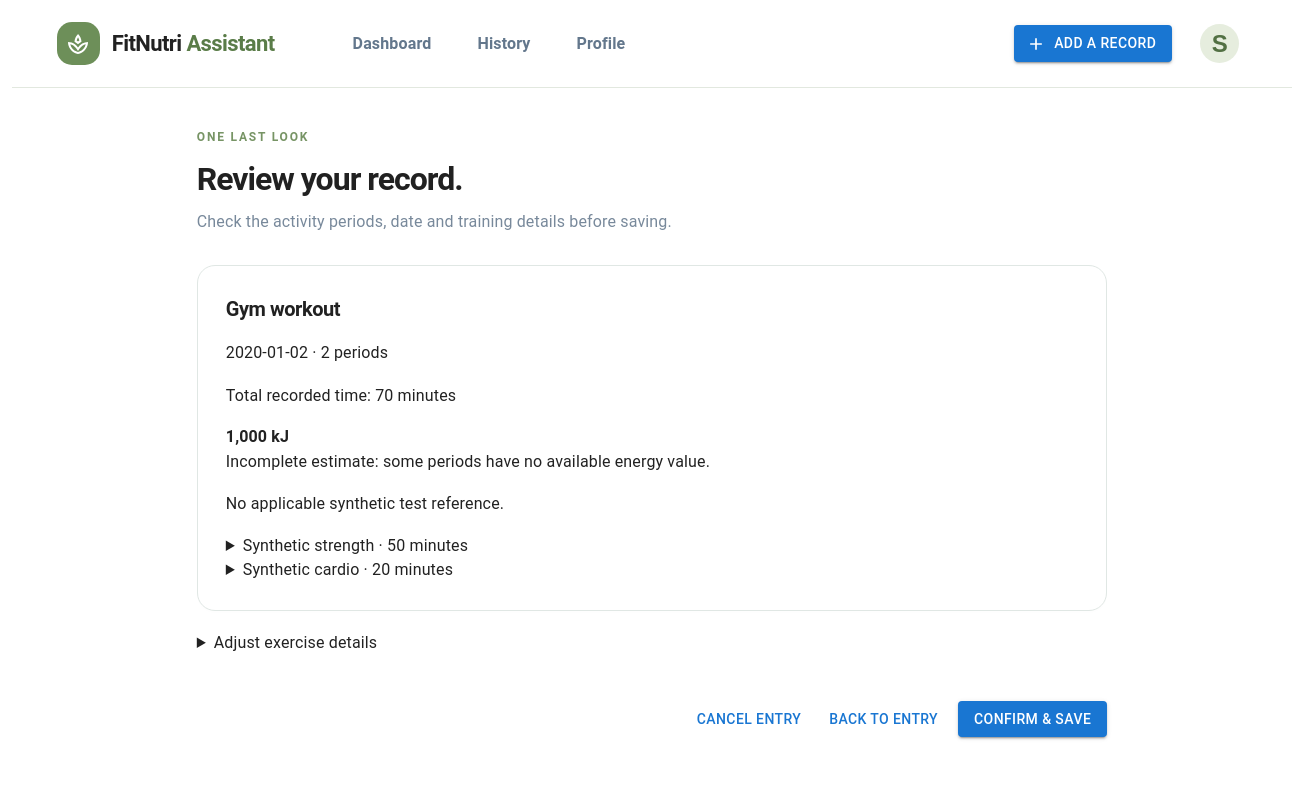
Scenario: requires a new explicit confirmation after a known calculation conflict and keeps original root identities
The image size is (1292, 800).
Expected: the heading "Review your record." is shown, [197,160,462,198]
Click the button "Confirm & save" at (1033,719), box [958,701,1107,737]
(page scrolled)
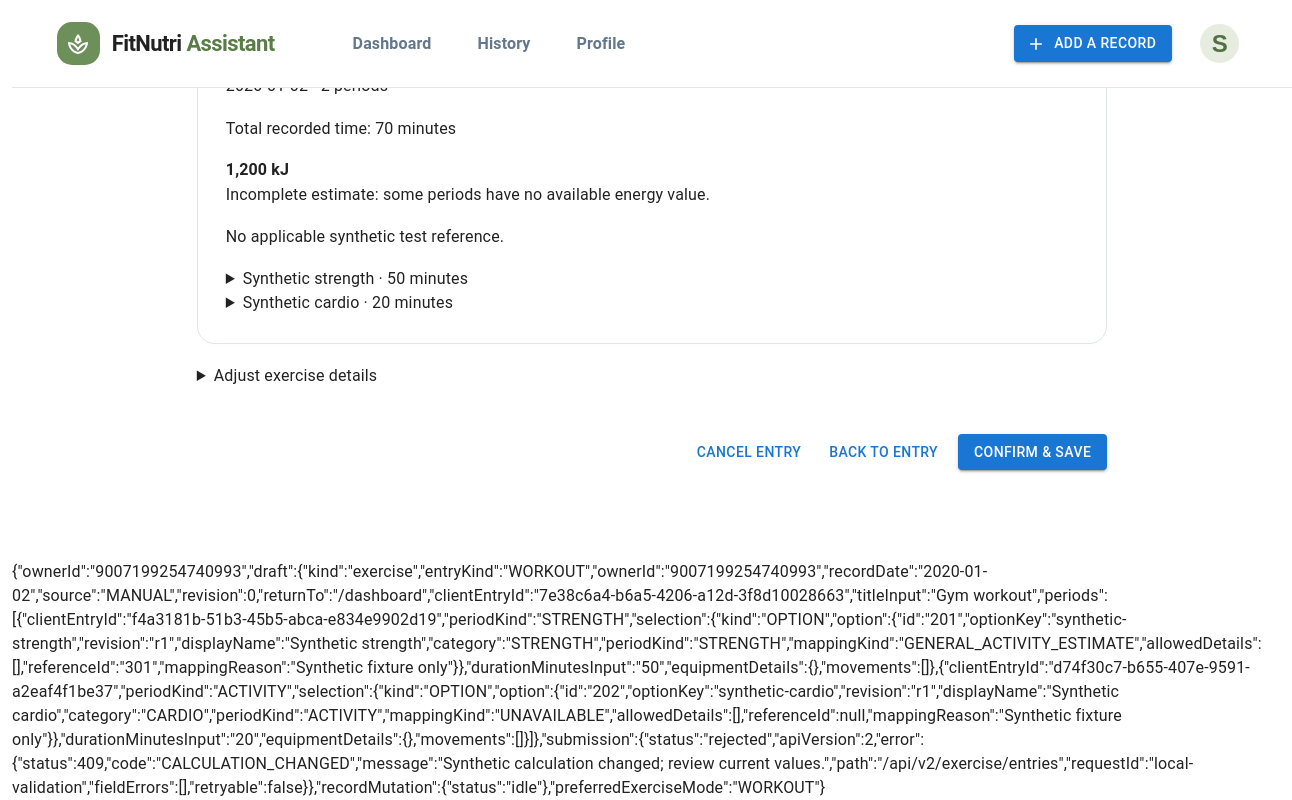
Expected: the text "1,200 kJ" is shown, [226,160,289,179]
Click the button "Confirm & save" at (1033,452), box [958,434,1107,470]
(page scrolled)
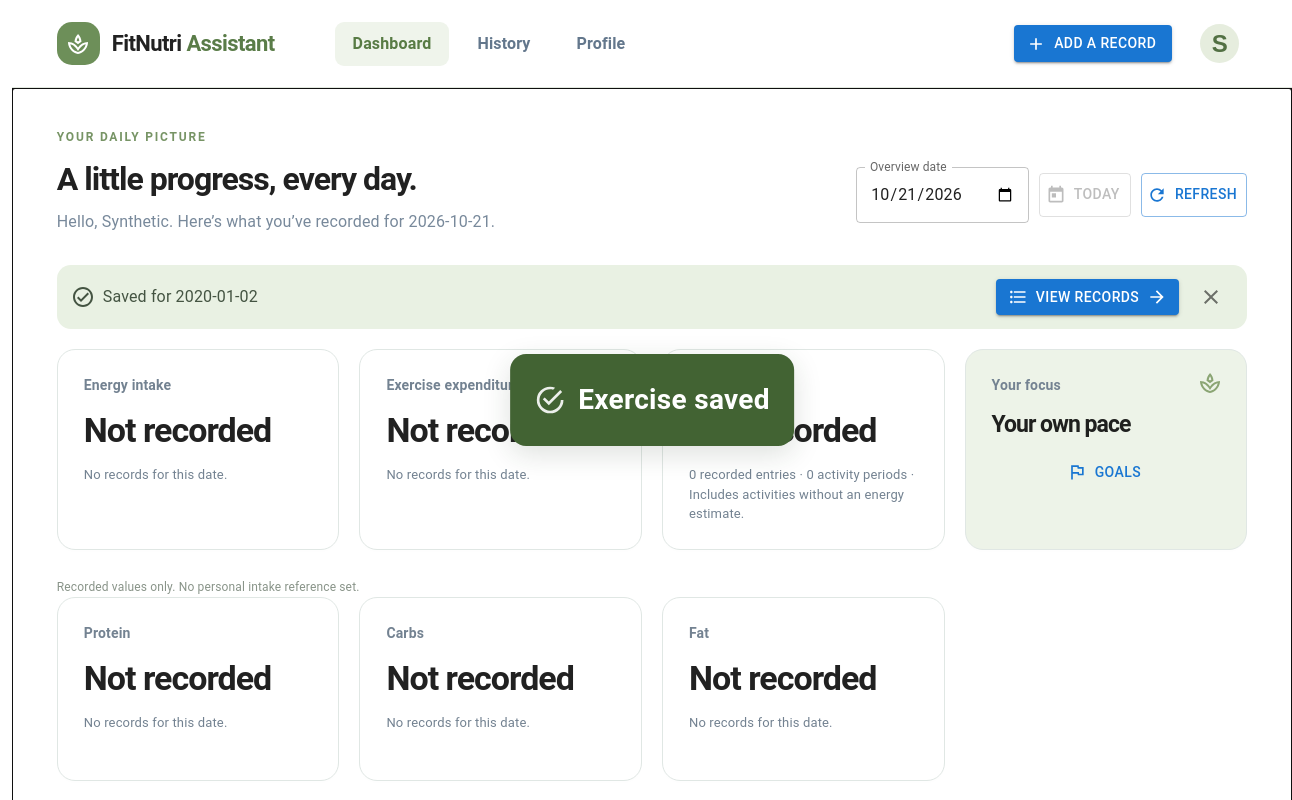
Expected: the heading "A little progress, every day." is shown, [57,160,417,198]
